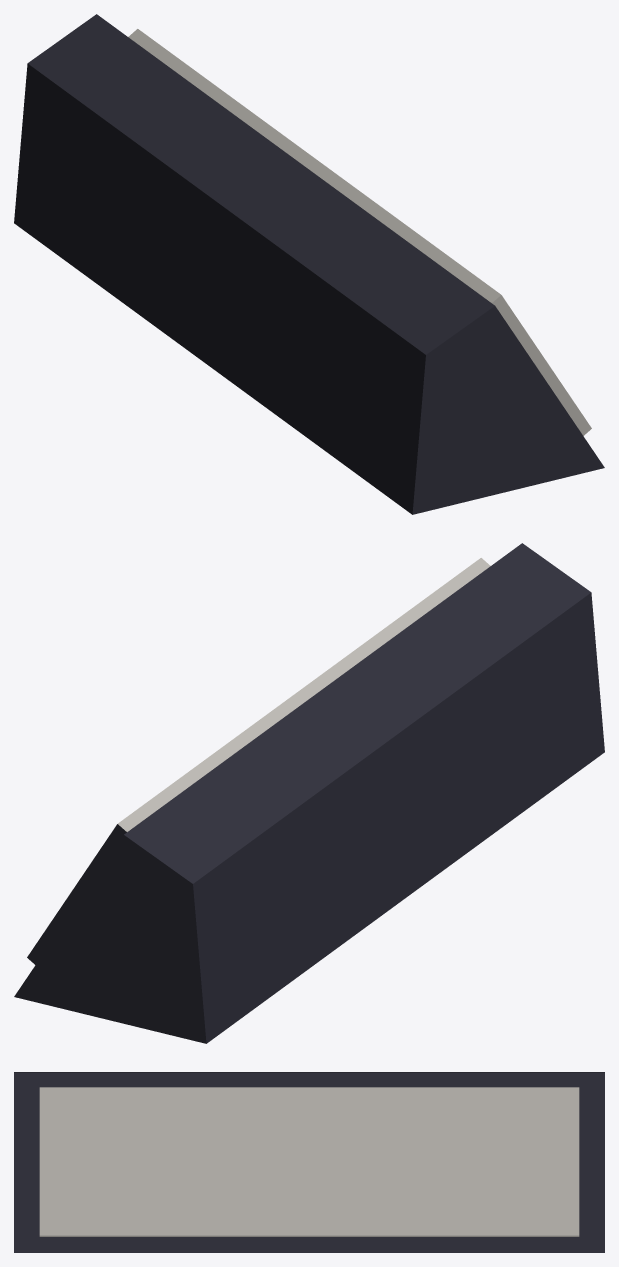
Rendered from NamePlate.fbx.
3 renders of one model, top to bottom at view 1: azimuth 30°, elevation 25°; view 2: azimuth 150°, elevation 25°; view 3: azimuth 270°, elevation 25°, orthographic. The views are drawn at different scales.
Visible parts, largest first — view 1: NamePlate; view 2: NamePlate; view 3: NamePlate.
Part boxes in pixels (bbox=[...]): NamePlate: bbox=[14, 14, 604, 514]; NamePlate: bbox=[14, 543, 604, 1043]; NamePlate: bbox=[14, 1072, 604, 1252].
Bounding box in the file's own units: 0.0895 × 0.0821 × 0.3137.
